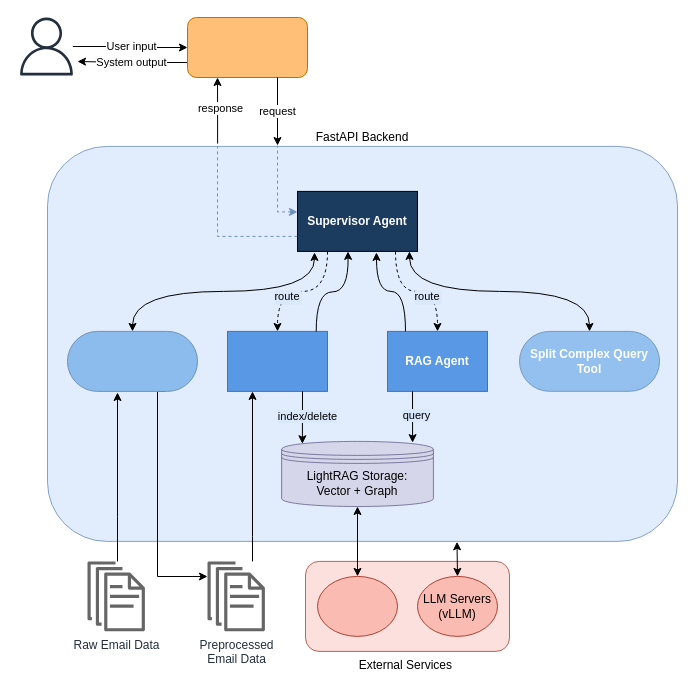
Image size: 695x690. Some labels were removed from this diagram. The centre of each missing label's shape, as x and y in pixels:
Knowledge Graph Agent: the point at 277,360
Neo4j Server: the point at 357,605
Preprocessing Tool: the point at 132,360
Streamlit UI: the point at 247,47
